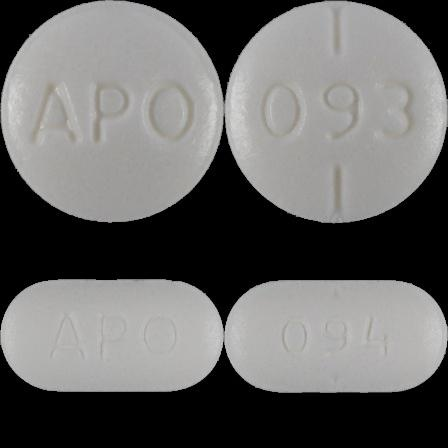50090-0701: (0, 0, 224, 224)
